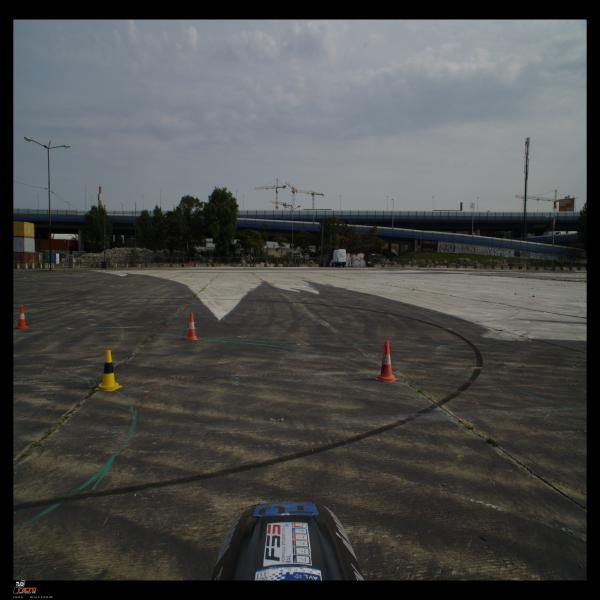orange_cone: (374, 340, 398, 383), (14, 305, 30, 330), (184, 312, 198, 340)
yellow_cone: (94, 350, 123, 391)
